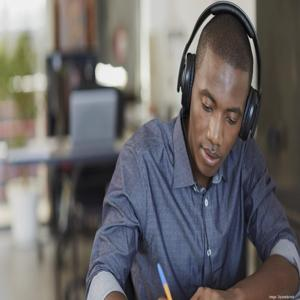Headphones: (174, 1, 262, 140)
